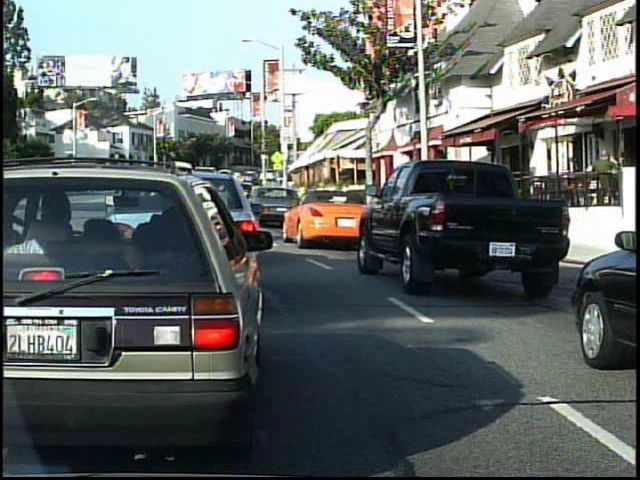person: (587, 142, 622, 225)
